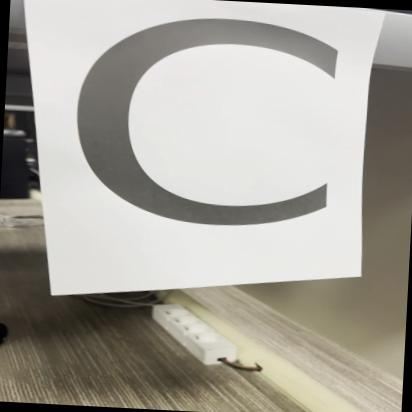seat: (43, 6, 378, 272)
